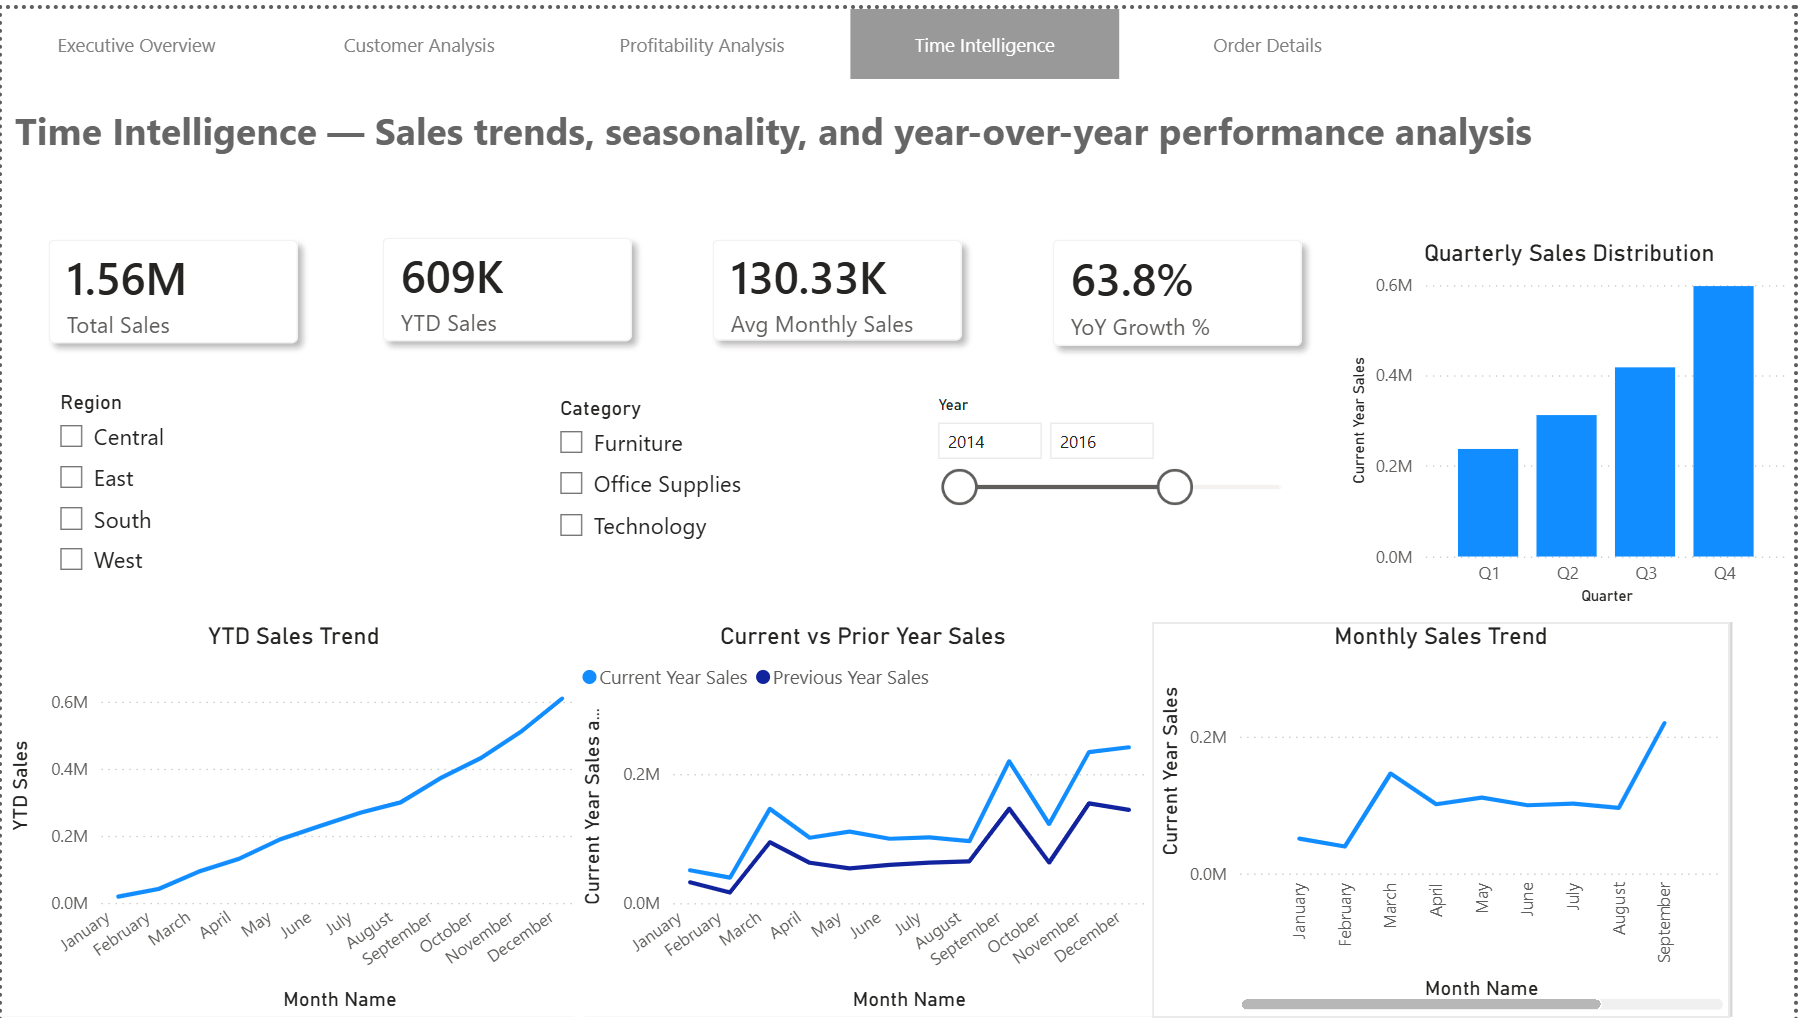

This screenshot's page, from the dashboard's own definition file:
{"tool":"powerbi","page":{"name":"Time Intelligence","canvas":[1280,720],"ordinal":3},"visuals":[{"type":"shape","box":[0,437.4,1236,282.1],"z":0},{"type":"lineChart","title":"YTD Sales Trend","fields":{"Category":["DateTable.Month Name"],"Y":["Measures Table.YTD Sales TI"]},"box":[0,437.4,416.6,282.1],"z":1000},{"type":"cardVisual","fields":{"Data":["Measures Table.YoY Growth % TI"]},"box":[721.4,136.3,236.7,134.4],"z":2000},{"type":"lineChart","title":"Monthly Sales Trend","fields":{"Category":["DateTable.Month Name"],"Y":["Measures Table.Total Sales TI"]},"box":[821.8,437.4,412.8,282.1],"z":3000},{"type":"slicer","fields":{"Values":["DateTable.Year"]},"box":[655.1,270.8,280.2,140.1],"z":4000},{"type":"lineChart","title":"Current vs Prior Year Sales","fields":{"Category":["DateTable.Month Name"],"Y":["Measures Table.Total Sales TI","Measures Table.Previous Year Sales TI"]},"box":[409,437.4,412.8,282.1],"z":5000},{"type":"clusteredColumnChart","title":"Quarterly Sales Distribution","fields":{"Category":["DateTable.Quarter"],"Y":["Measures Table.Total Sales TI"]},"box":[958.1,164.7,321.9,265.1],"z":6000},{"type":"slicer","title":"Region","fields":{"Values":["public orders_clean.region"]},"box":[28.4,267,189.3,162.8],"z":7000},{"type":"slicer","fields":{"Values":["public orders_clean.category"]},"box":[386.3,270.8,187.5,159.1],"z":8000},{"type":"cardVisual","fields":{"Data":["Measures Table.Avg Monthly Sales TI"]},"box":[479.1,136.3,236.7,130.7],"z":9000},{"type":"cardVisual","fields":{"Data":["Sum(public orders_clean.sales)"]},"box":[3.8,136.3,236.7,132.5],"z":10000},{"type":"cardVisual","fields":{"Data":["Measures Table.YTD Sales TI"]},"box":[242.4,134.4,236.7,132.5],"z":11000},{"type":"textbox","box":[3.8,62.5,1208,72],"z":12000},{"type":"pageNavigator","box":[0,0,1000,50],"z":12001}]}

Visuals, with their boxes in screenshot pixels (x1, y1, x2, y2), scaled from the page's 1280x720 canvas onto the 1804x1018 screenshot:
shape: bbox=(0, 618, 1742, 1017)
"YTD Sales Trend" lineChart: bbox=(0, 618, 587, 1017)
cardVisual - Measures Table.YoY Growth % TI: bbox=(1017, 193, 1350, 383)
"Monthly Sales Trend" lineChart: bbox=(1158, 618, 1740, 1017)
slicer - DateTable.Year: bbox=(923, 383, 1318, 581)
"Current vs Prior Year Sales" lineChart: bbox=(576, 618, 1158, 1017)
"Quarterly Sales Distribution" clusteredColumnChart: bbox=(1350, 233, 1803, 608)
"Region" slicer: bbox=(40, 378, 307, 608)
slicer - public orders_clean.category: bbox=(544, 383, 809, 608)
cardVisual - Measures Table.Avg Monthly Sales TI: bbox=(675, 193, 1009, 378)
cardVisual - Sum(public orders_clean.sales): bbox=(5, 193, 339, 380)
cardVisual - Measures Table.YTD Sales TI: bbox=(342, 190, 675, 377)
textbox: bbox=(5, 88, 1708, 190)
pageNavigator: bbox=(0, 0, 1409, 71)
